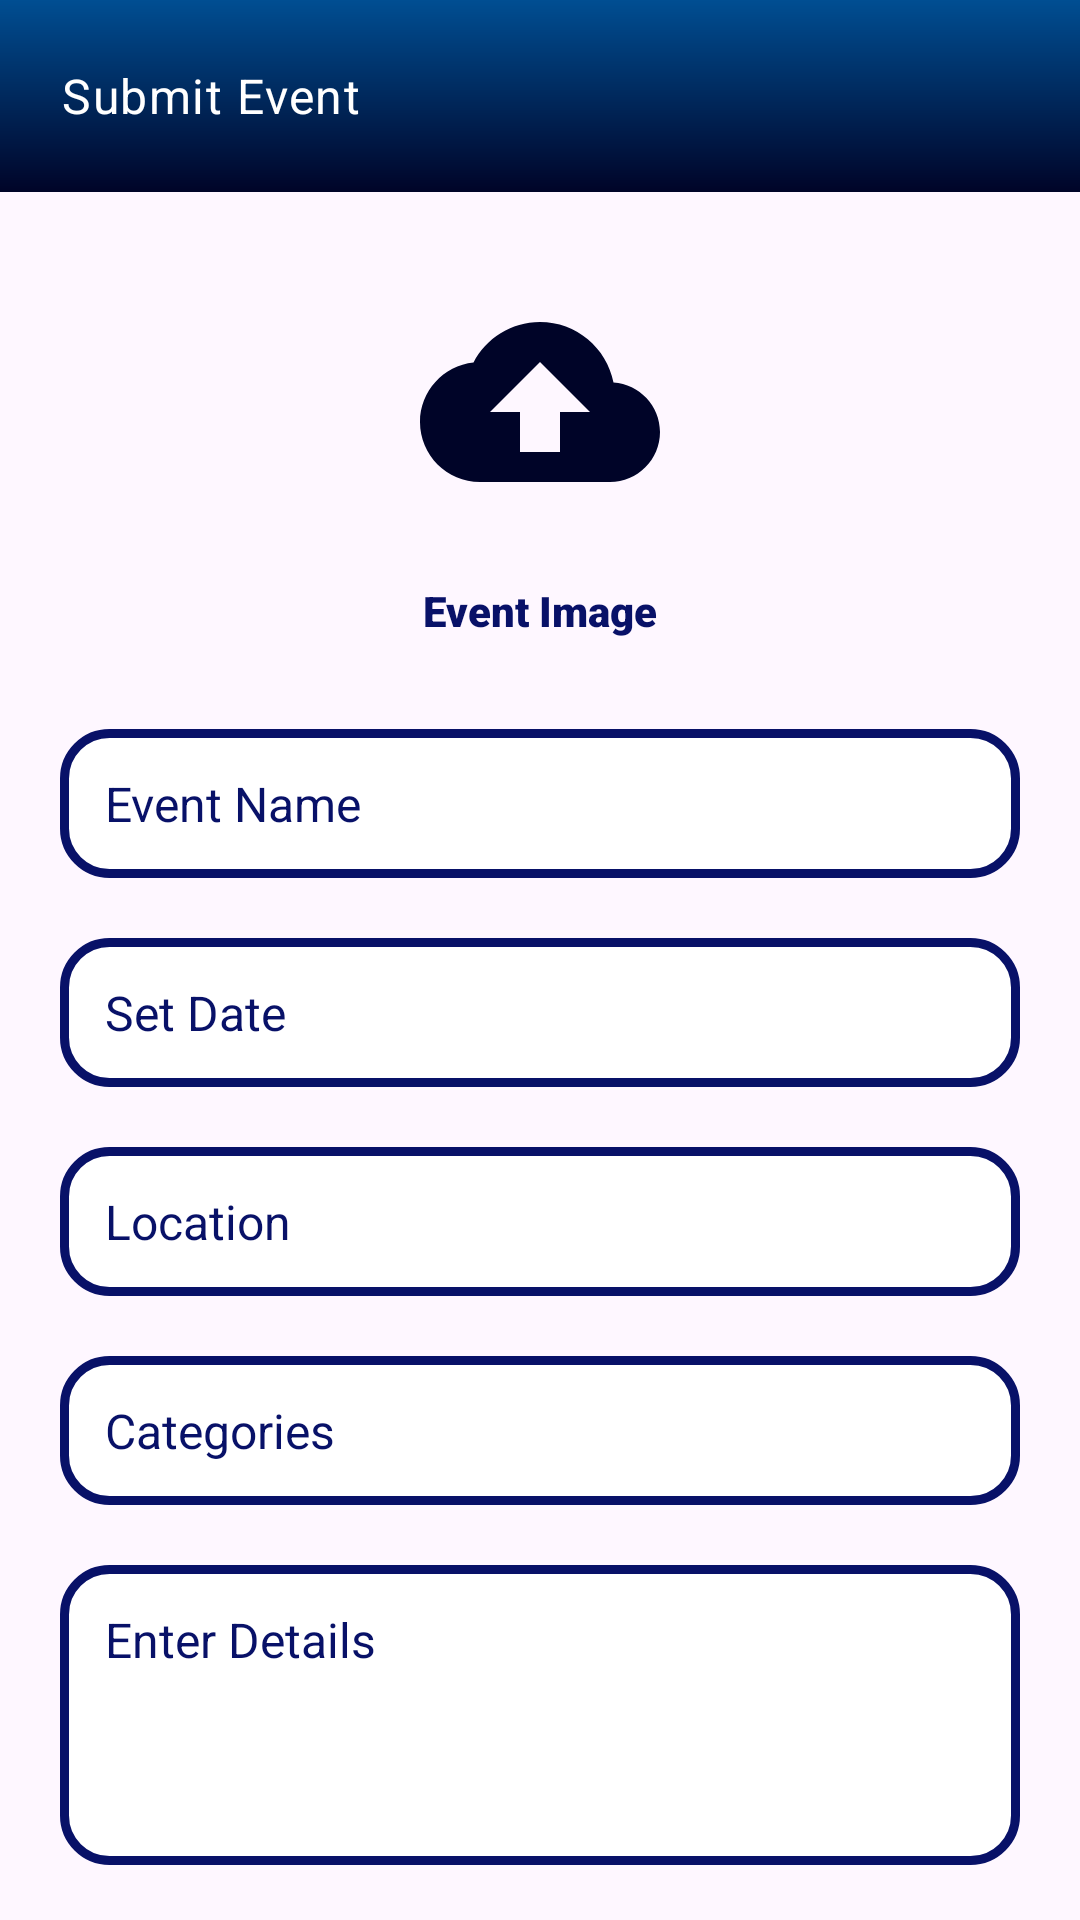

Icons on this 1080 × 1920 Android screen, each with its box as (x1, y1, x2, y2):
cloud upload: (420, 322, 660, 482)
